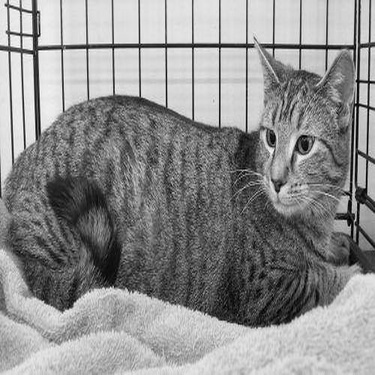cat: (9, 39, 365, 328)
